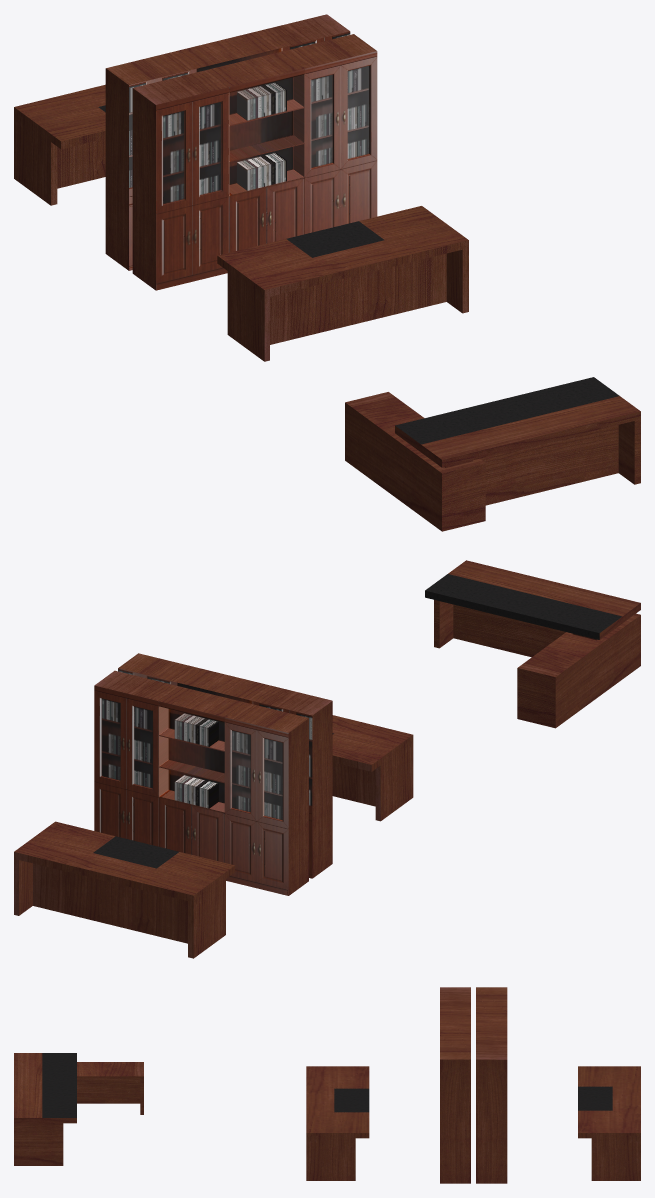
File: desk 4.glb
The picture shows the model from 3 angles, top to bottom: view 1: azimuth 30°, elevation 25°; view 2: azimuth 150°, elevation 25°; view 3: azimuth 270°, elevation 25°; orthographic projection. The views are drawn at different scales.
Visible parts, largest first — view 1: 立方体.553, 立方体.451, 立方体.586, 立方体.208, 立方体.207; view 2: 立方体.208, 立方体.451, 立方体.207, 立方体.553, 立方体.586; view 3: 立方体.451, 立方体.586, 立方体.207, 立方体.208, 立方体.553.
Part boxes in pixels (bbox=[...]): 立方体.553: bbox=[132, 34, 377, 290]; 立方体.451: bbox=[345, 377, 640, 531]; 立方体.586: bbox=[217, 206, 468, 361]; 立方体.208: bbox=[105, 14, 350, 270]; 立方体.207: bbox=[14, 84, 105, 205]; 立方体.208: bbox=[94, 670, 308, 895]; 立方体.451: bbox=[425, 560, 640, 728]; 立方体.207: bbox=[14, 821, 234, 958]; 立方体.553: bbox=[118, 653, 332, 878]; 立方体.586: bbox=[332, 715, 413, 821]; 立方体.451: bbox=[14, 1053, 143, 1165]; 立方体.586: bbox=[306, 1066, 369, 1180]; 立方体.207: bbox=[578, 1066, 640, 1180]; 立方体.208: bbox=[476, 987, 507, 1183]; 立方体.553: bbox=[440, 987, 470, 1183].
Bounding box in the file's own units: 1.45 × 1.02 × 4.66.
Materials: 4 (4 with a texture image).
